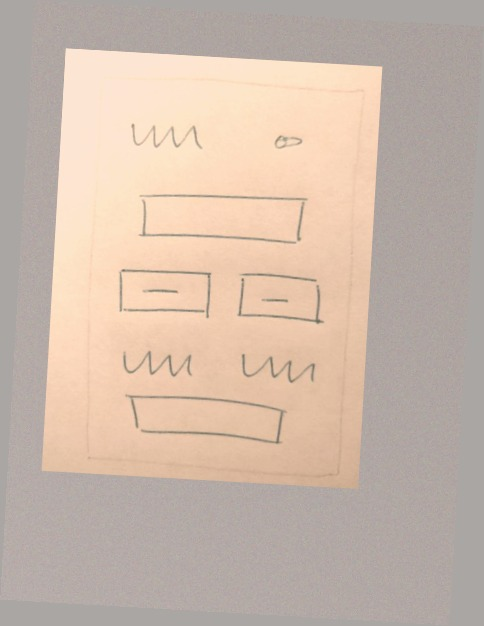button: (228, 262, 333, 330), (110, 261, 222, 323)
switch: (267, 121, 308, 161)
text: (230, 340, 322, 395), (110, 337, 201, 387), (119, 114, 210, 158)
text_input: (130, 180, 312, 253), (113, 389, 294, 453)
